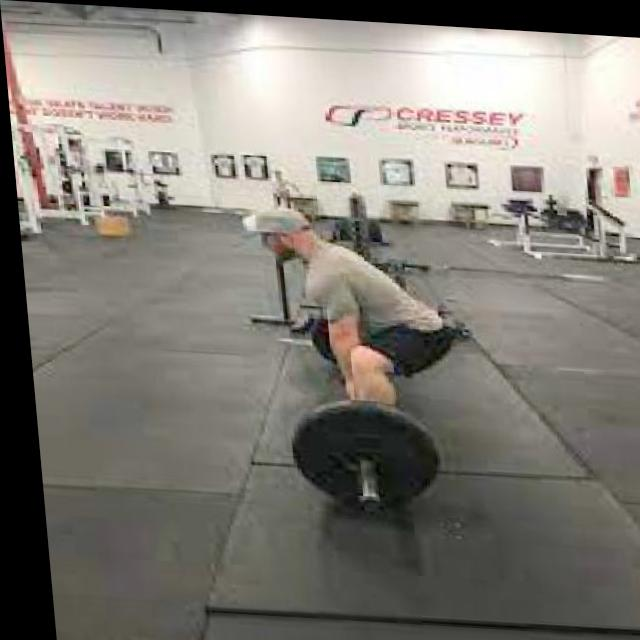barbell: (274, 392, 444, 511)
